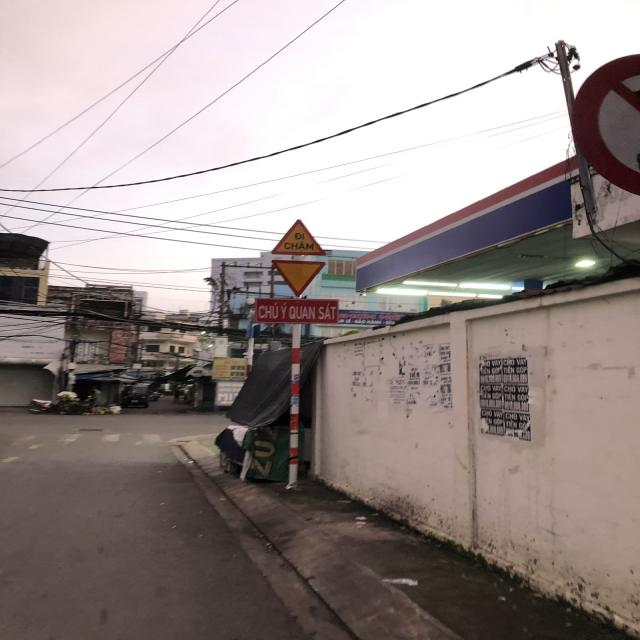Bien bao di cham: (265, 216, 334, 259)
Bien bao giao nhau voi duong uu tien: (265, 257, 334, 298)
